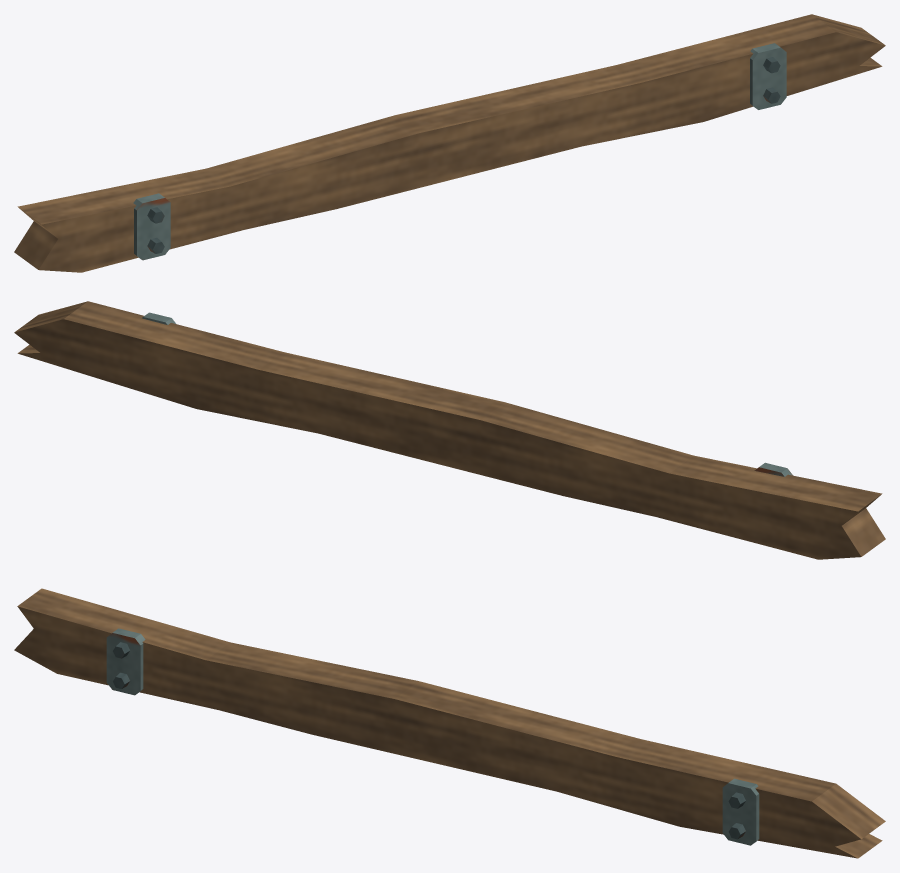
File: door_brace.glb
3 renders of one model, top to bottom at view 1: azimuth 30°, elevation 25°; view 2: azimuth 150°, elevation 25°; view 3: azimuth 330°, elevation 25°, orthographic.
Visible parts, largest first — view 1: SplinteredReinforcement; view 2: SplinteredReinforcement; view 3: SplinteredReinforcement.
Boxes of the visible parts, x1,y1,x2,y2 form: SplinteredReinforcement: [14, 14, 885, 272]; SplinteredReinforcement: [14, 301, 885, 559]; SplinteredReinforcement: [14, 588, 885, 858].
Size of the model in its own units: 2.56 by 0.17 by 0.169.
3 materials, 3 textured.
